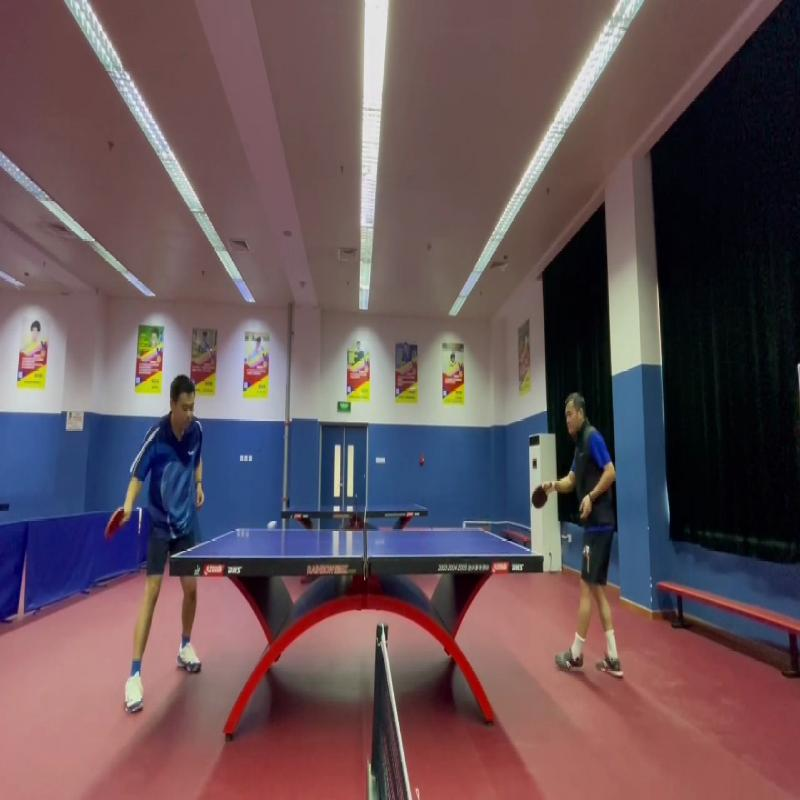bats: (91, 490, 135, 557)
